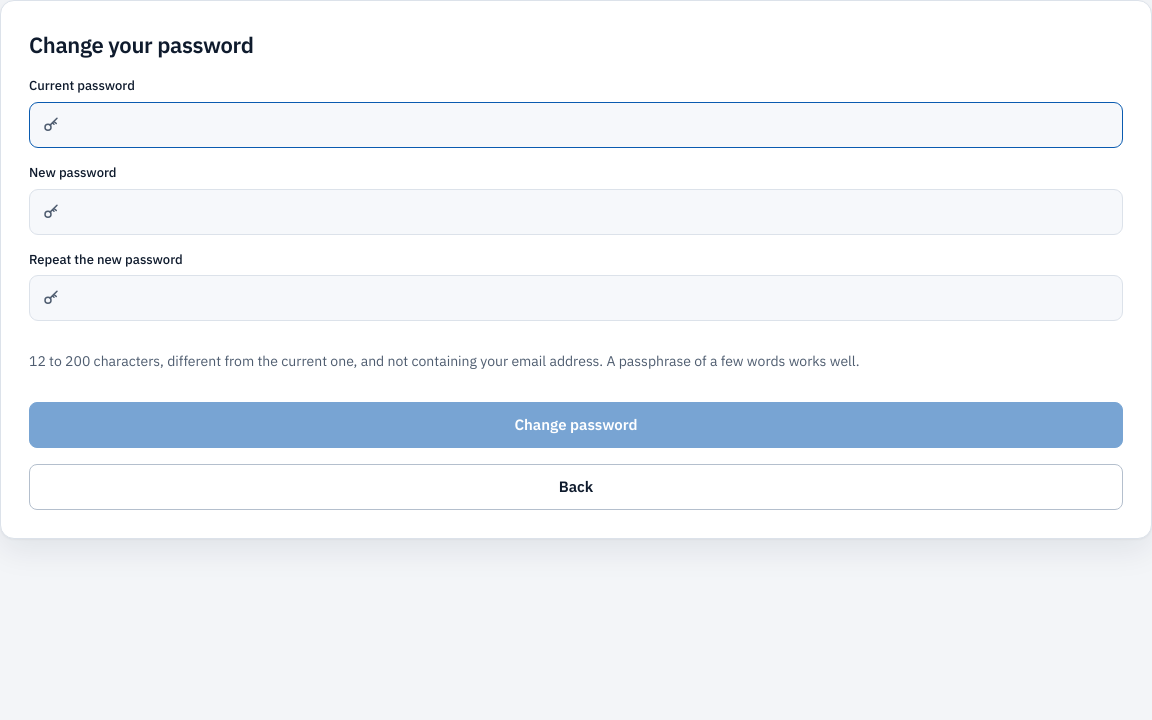
ChangePassword › a locked account says when to try again
Type "my old long phrase" into the password field labelled "Current password".
click(591, 125); type("my old long phrase")  # box [60, 103, 1122, 147]
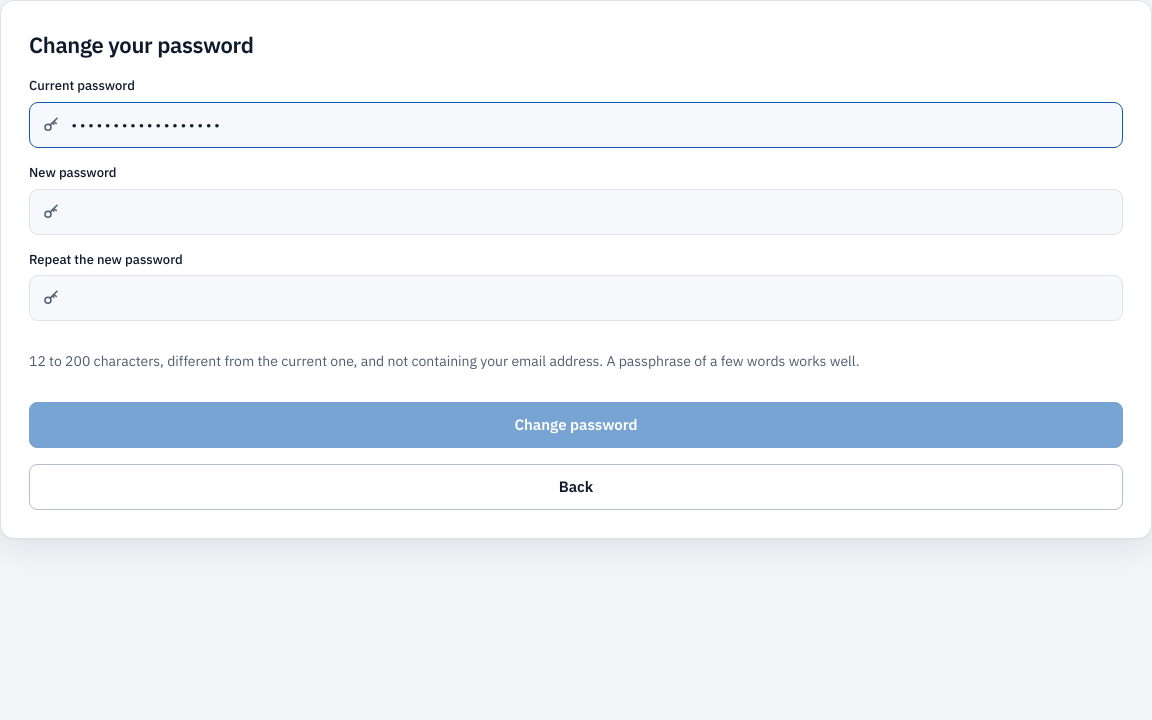
Type "my new long phrase" into the password field labelled "New password".
click(591, 212); type("my new long phrase")  # box [60, 190, 1122, 234]
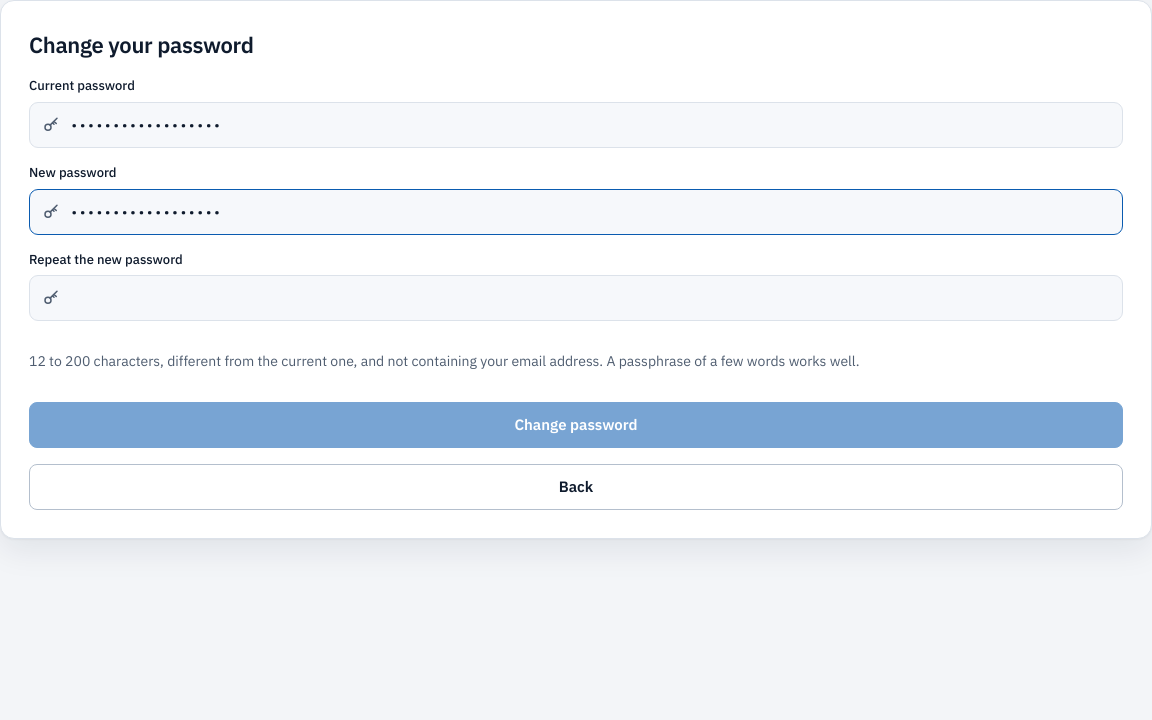
Type "my new long phrase" into the password field labelled "Repeat the new password".
click(591, 298); type("my new long phrase")  # box [60, 276, 1122, 320]
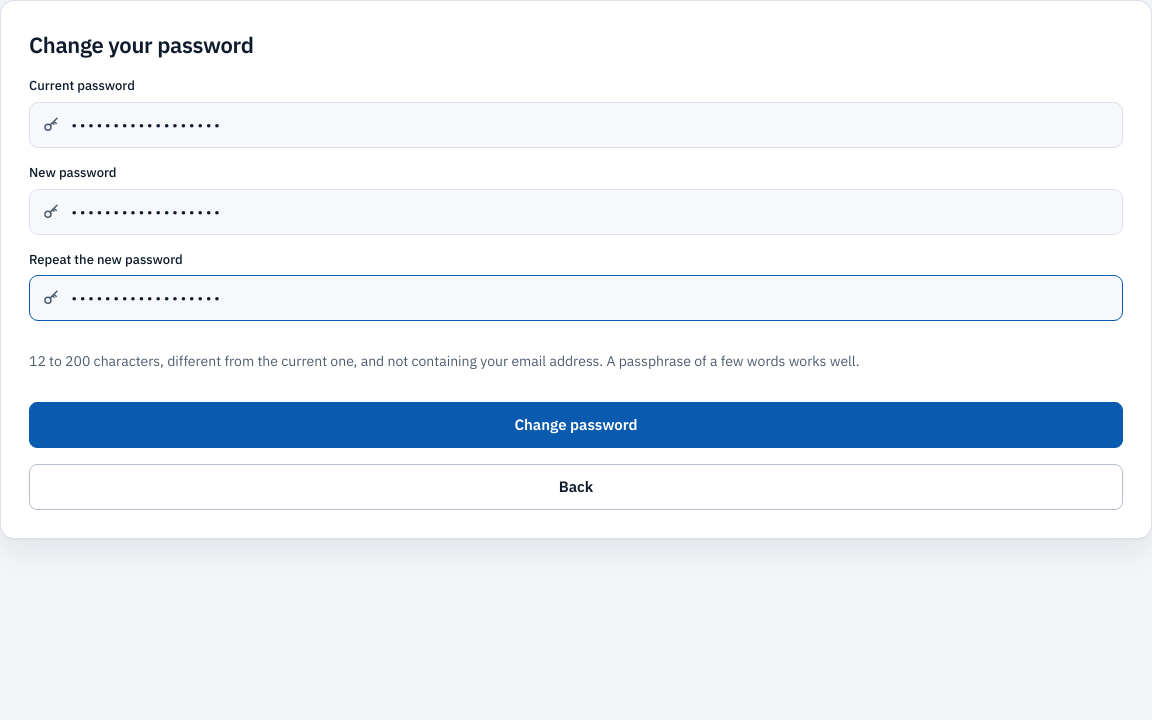
Click the button "Change password".
click(576, 425)  # box [29, 402, 1123, 448]
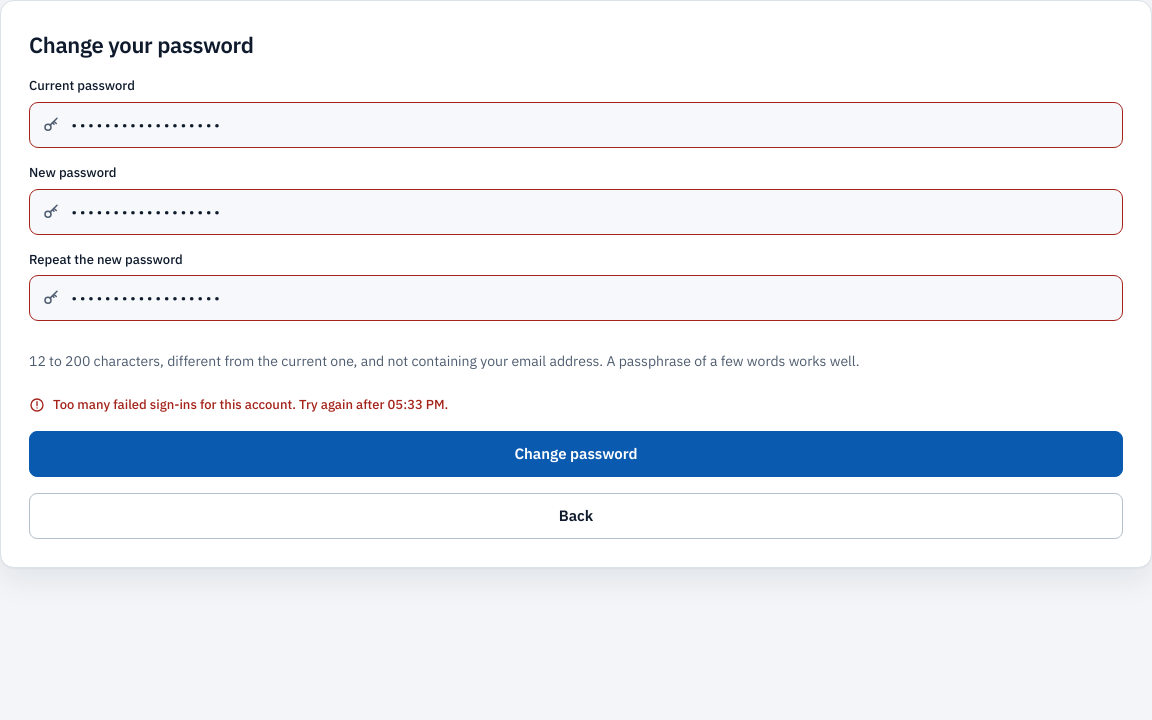
Result: the message shows "Too many failed sign-ins for this account. Try again after" at [53, 396, 448, 413]
